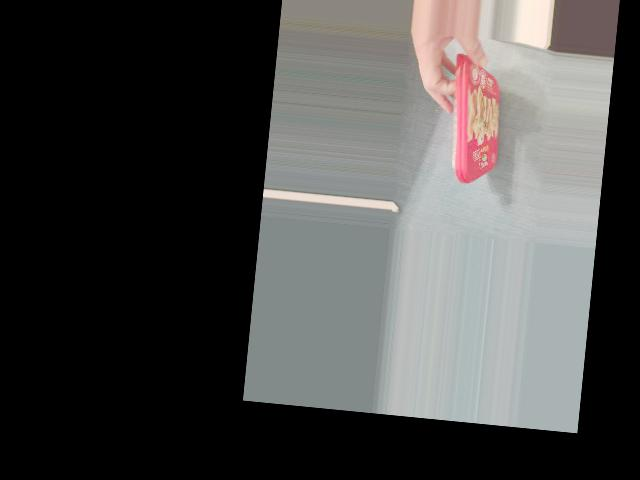cheese: (435, 53, 506, 182)
